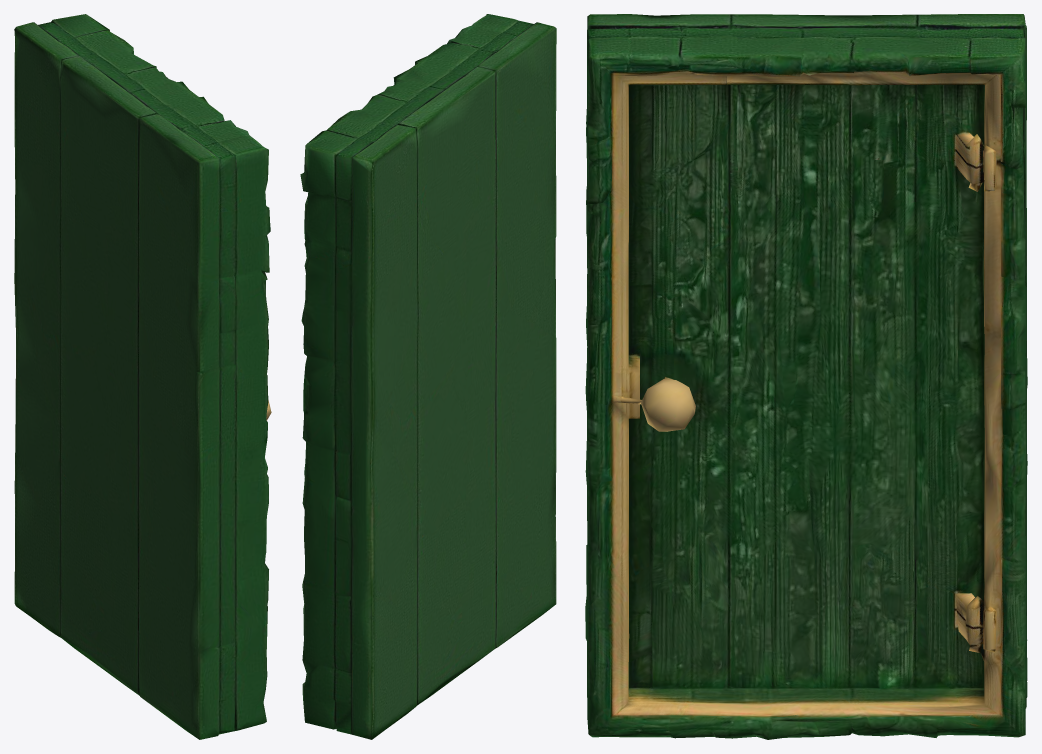
File: et_door.glb
The picture shows the model from 3 angles, left to right: view 1: azimuth 30°, elevation 25°; view 2: azimuth 150°, elevation 25°; view 3: azimuth 270°, elevation 25°; orthographic projection. The views are drawn at different scales.
Visible parts, largest first — view 1: tripo_node_a5937370-81b7-4788-aa41-691a44b26116; view 2: tripo_node_a5937370-81b7-4788-aa41-691a44b26116; view 3: tripo_node_a5937370-81b7-4788-aa41-691a44b26116.
Part boxes in pixels (left/top/right/bottom): tripo_node_a5937370-81b7-4788-aa41-691a44b26116: left=14, top=14, right=271, bottom=739; tripo_node_a5937370-81b7-4788-aa41-691a44b26116: left=300, top=14, right=556, bottom=739; tripo_node_a5937370-81b7-4788-aa41-691a44b26116: left=585, top=14, right=1027, bottom=739.
Size of the model in its own units: 0.3716 by 2 by 1.17.
1 material, 1 textured.
